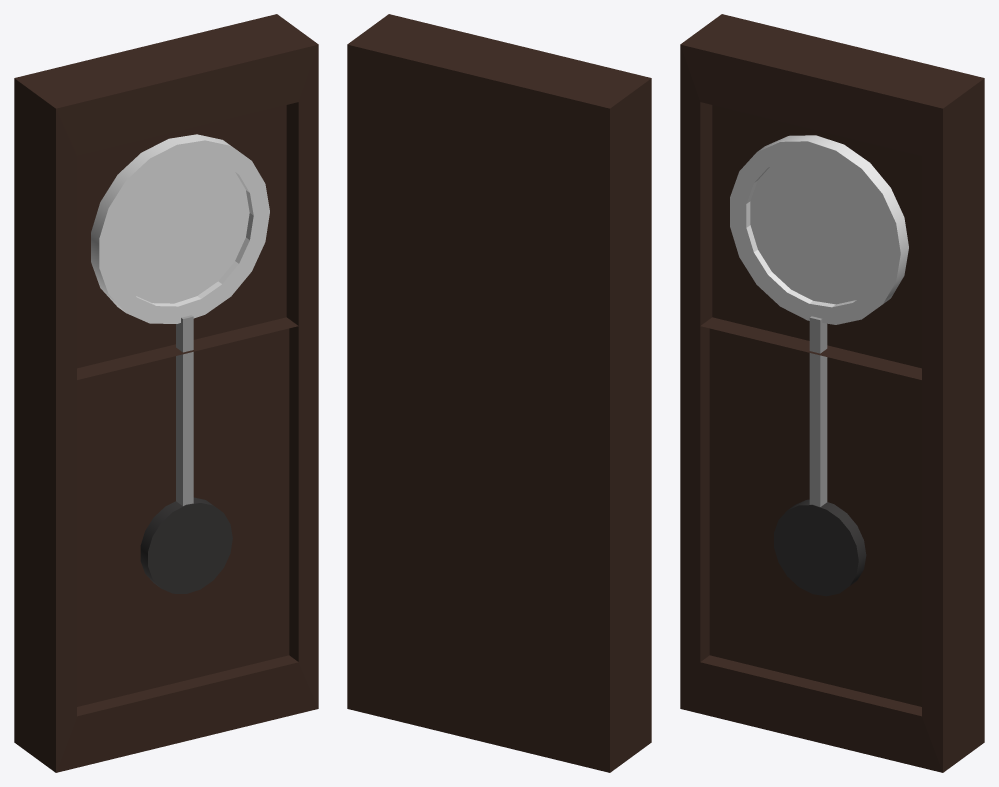
Rendered from Ancient_Clock 1.fbx.
The picture shows the model from 3 angles, left to right: view 1: azimuth 30°, elevation 25°; view 2: azimuth 150°, elevation 25°; view 3: azimuth 330°, elevation 25°; orthographic projection.
Parts seen in each view (by area): view 1: polySurface3, polySurface2; view 2: polySurface3; view 3: polySurface3, polySurface2.
Part boxes in pixels (x1,y1,x2,y2): polySurface3: (14, 14, 318, 772); polySurface2: (140, 315, 232, 593); polySurface3: (347, 14, 651, 772); polySurface3: (680, 14, 984, 772); polySurface2: (774, 316, 866, 596).
Bounding box in the file's own units: 2.69 × 6.49 × 0.7498.
